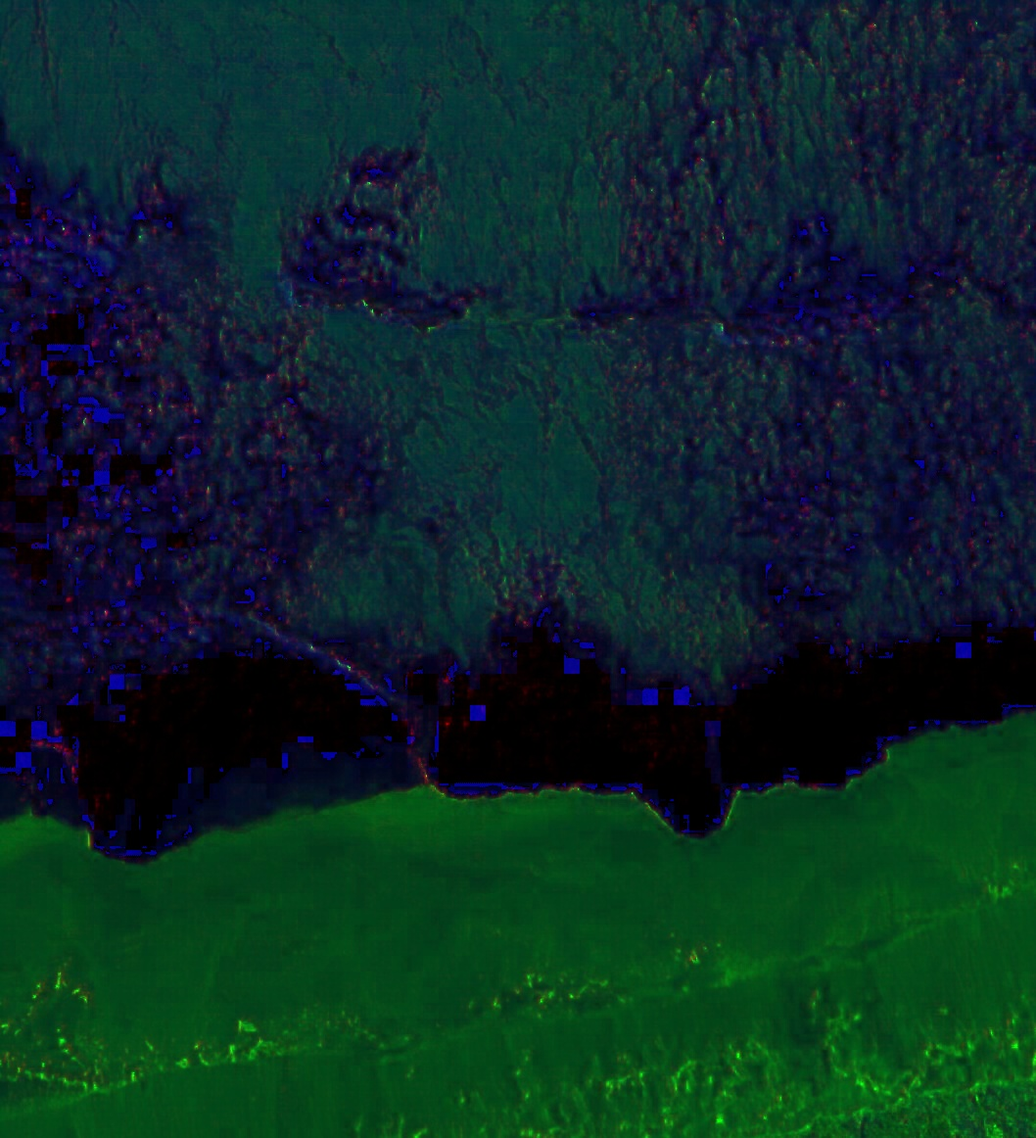rip_current: (350, 137, 704, 678)
